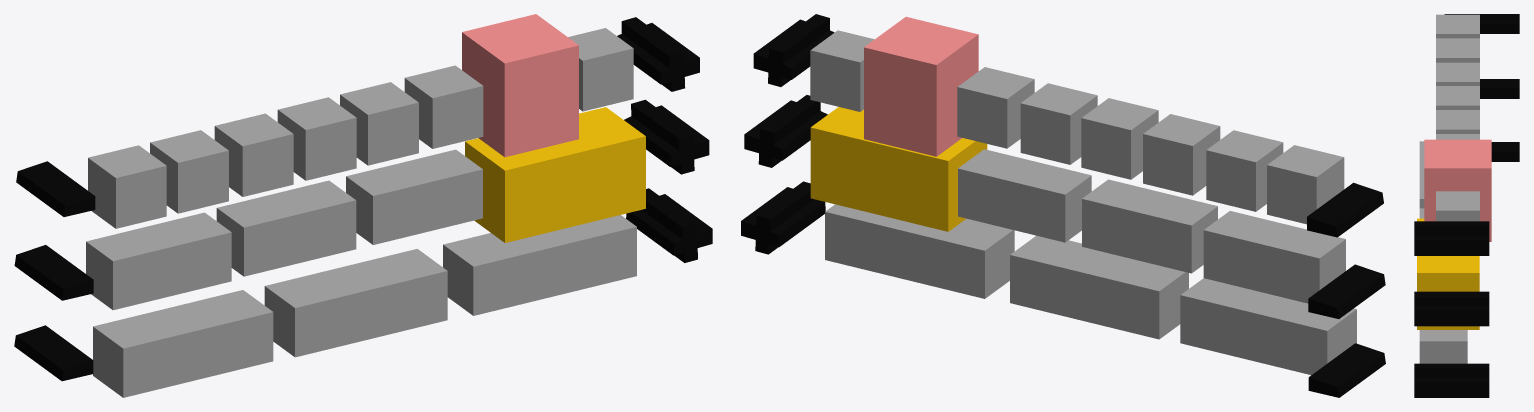
Rendered from 3D unity sequencer.fbx.
The picture shows the model from 3 angles, left to right: view 1: azimuth 30°, elevation 25°; view 2: azimuth 150°, elevation 25°; view 3: azimuth 270°, elevation 25°; orthographic projection. The views are drawn at different scales.
Visible parts, largest first — view 1: node_id151 (×22); view 2: node_id151 (×22); view 3: node_id151 (×17).
Part boxes in pixels (x1,y1,x2,y2): node_id151 (×22): (14, 14, 712, 397); node_id151 (×22): (741, 14, 1385, 397); node_id151 (×17): (1414, 14, 1519, 397).
Size of the model in its own units: 0.7645 by 0.2802 by 0.1407.
